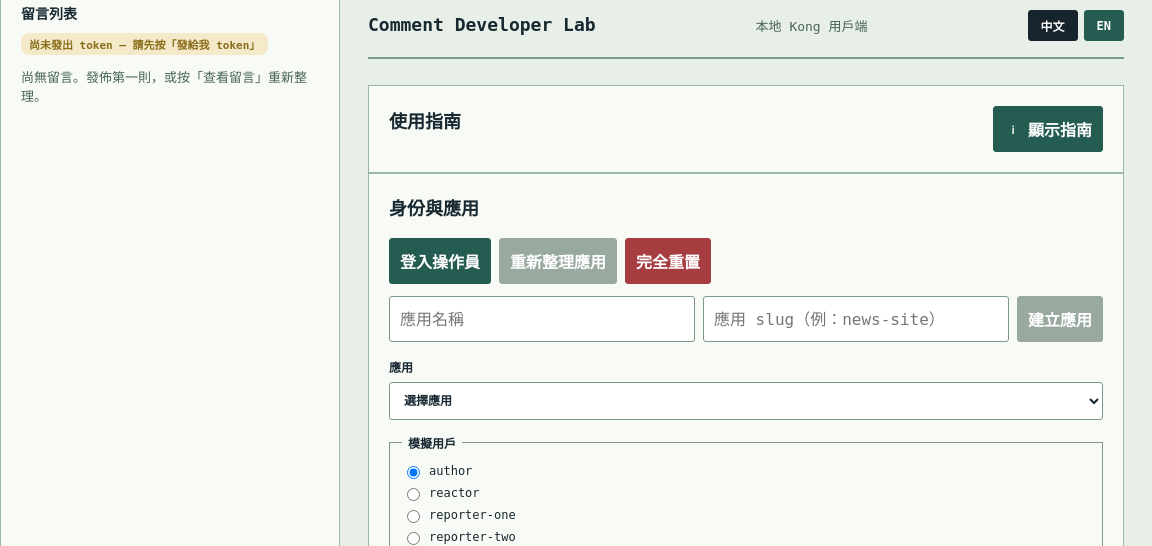
it: Lab comment board interactions › cancels the report dialog without submitting
The image size is (1152, 546).
Click the button "登入操作員" at (440, 261), box [389,238,491,284]
(page scrolled)
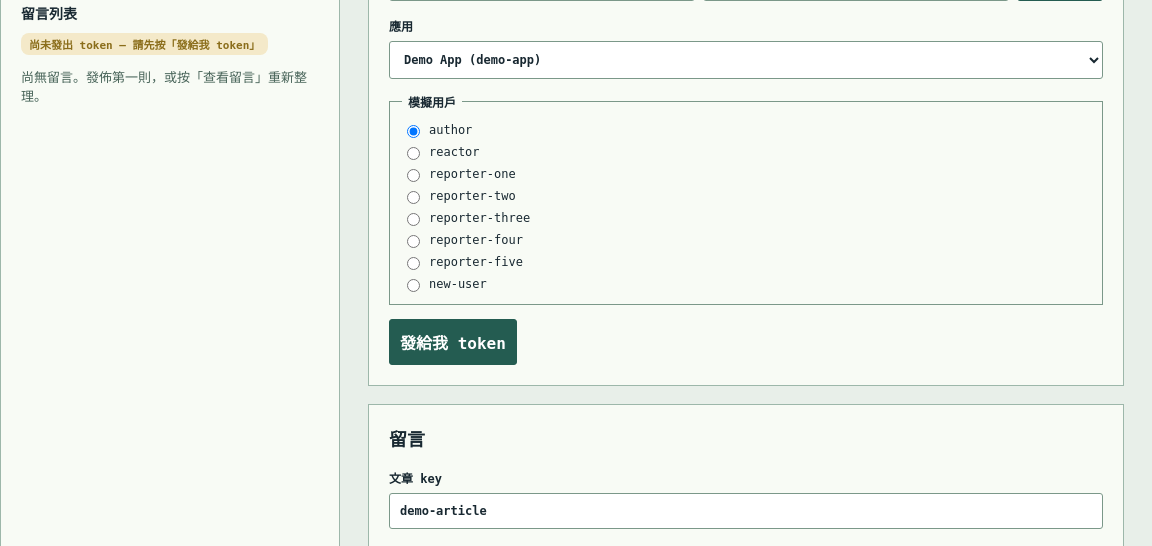
Click the button "發給我 token" at (453, 342), box [389,319,517,365]
(page scrolled)
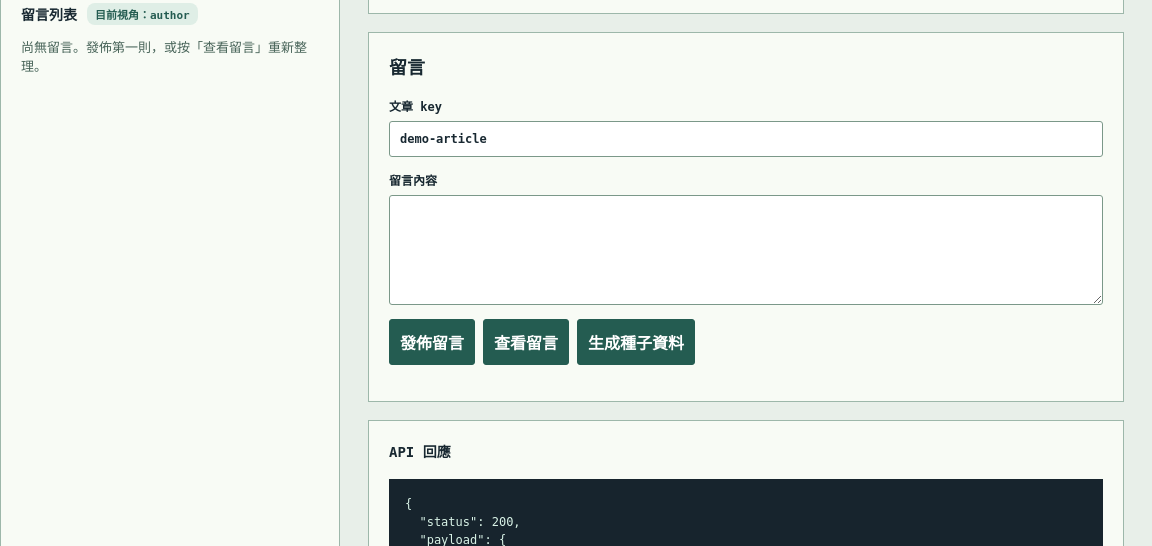
Click the button "查看留言" at (526, 342), box [483,319,569,365]
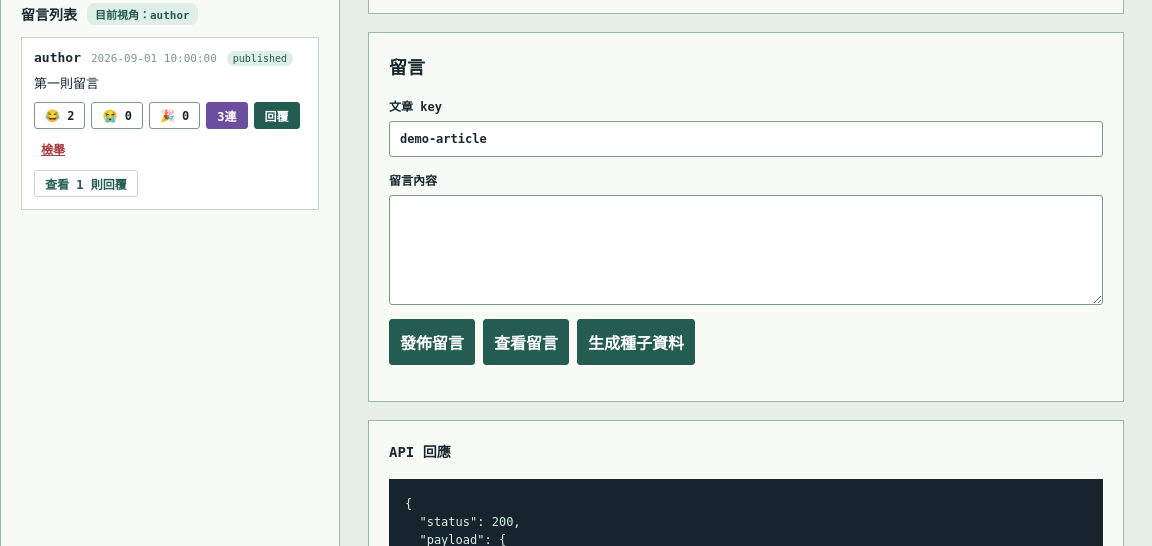
Click the button "檢舉" at (53, 149), box [34,135,72,162]
(page scrolled)
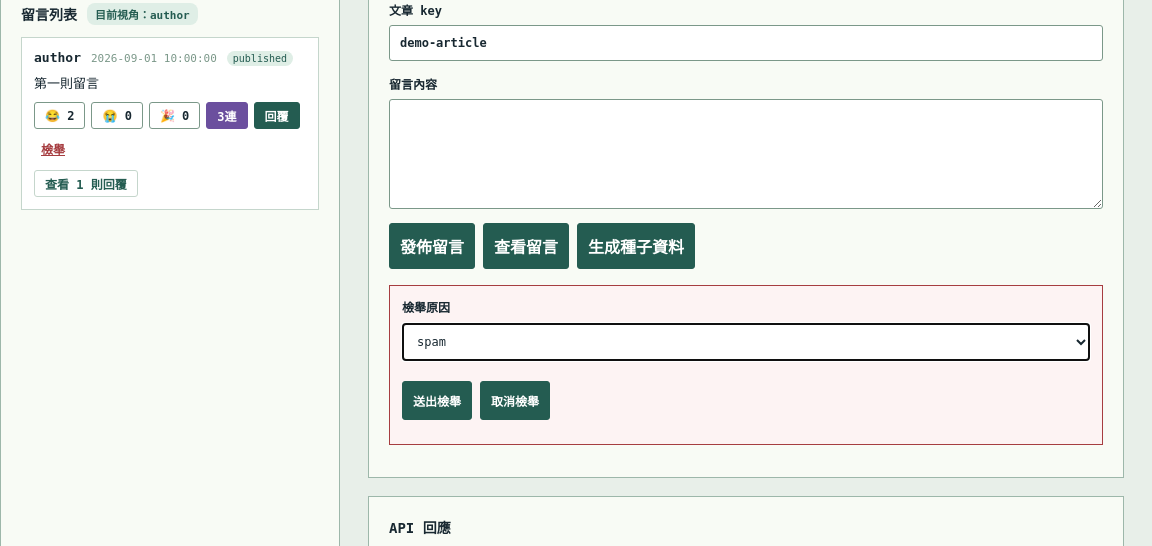
Click the button "取消檢舉" at (515, 400), box [480,381,550,420]
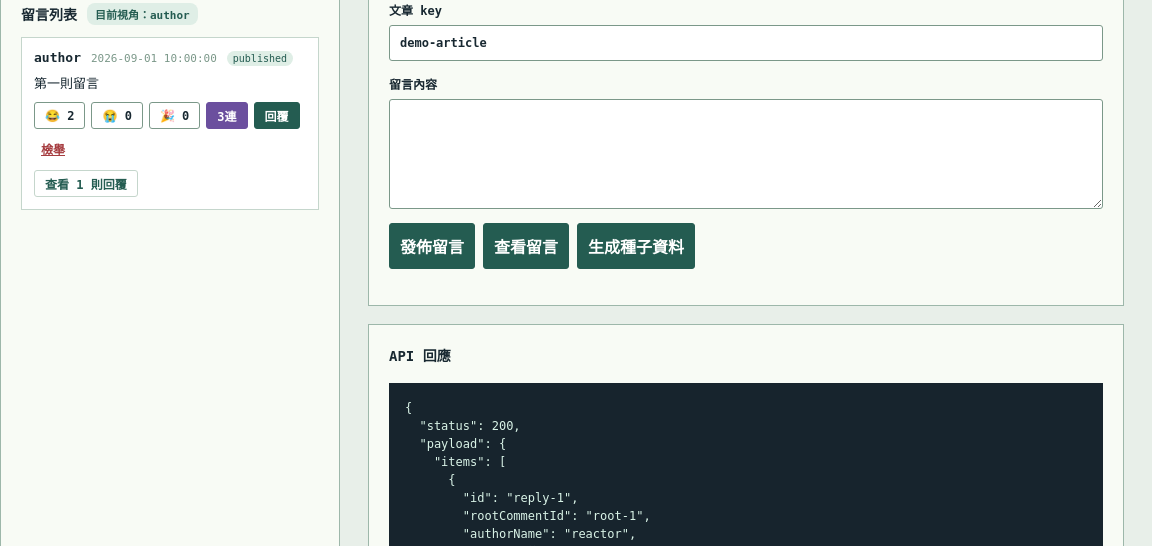
Result: the text with id "lab" no longer shows "檢舉原因"
